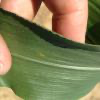Corn rust leaf: (46, 1, 88, 88)
